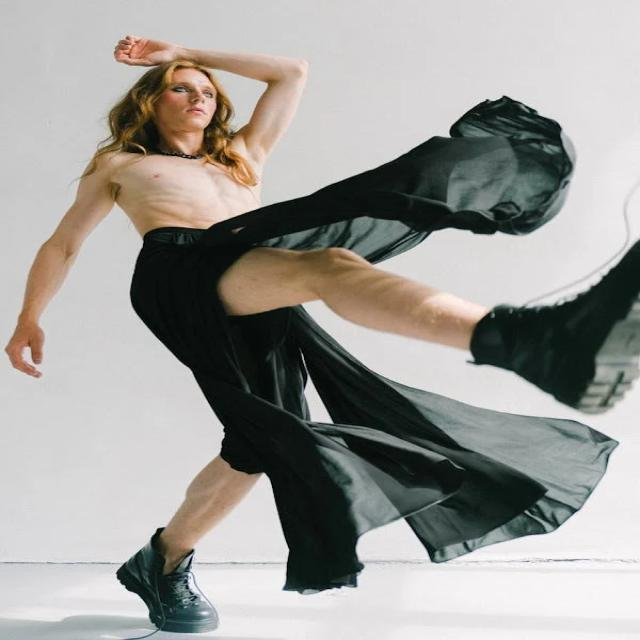Real human 2: (19, 30, 622, 640)
